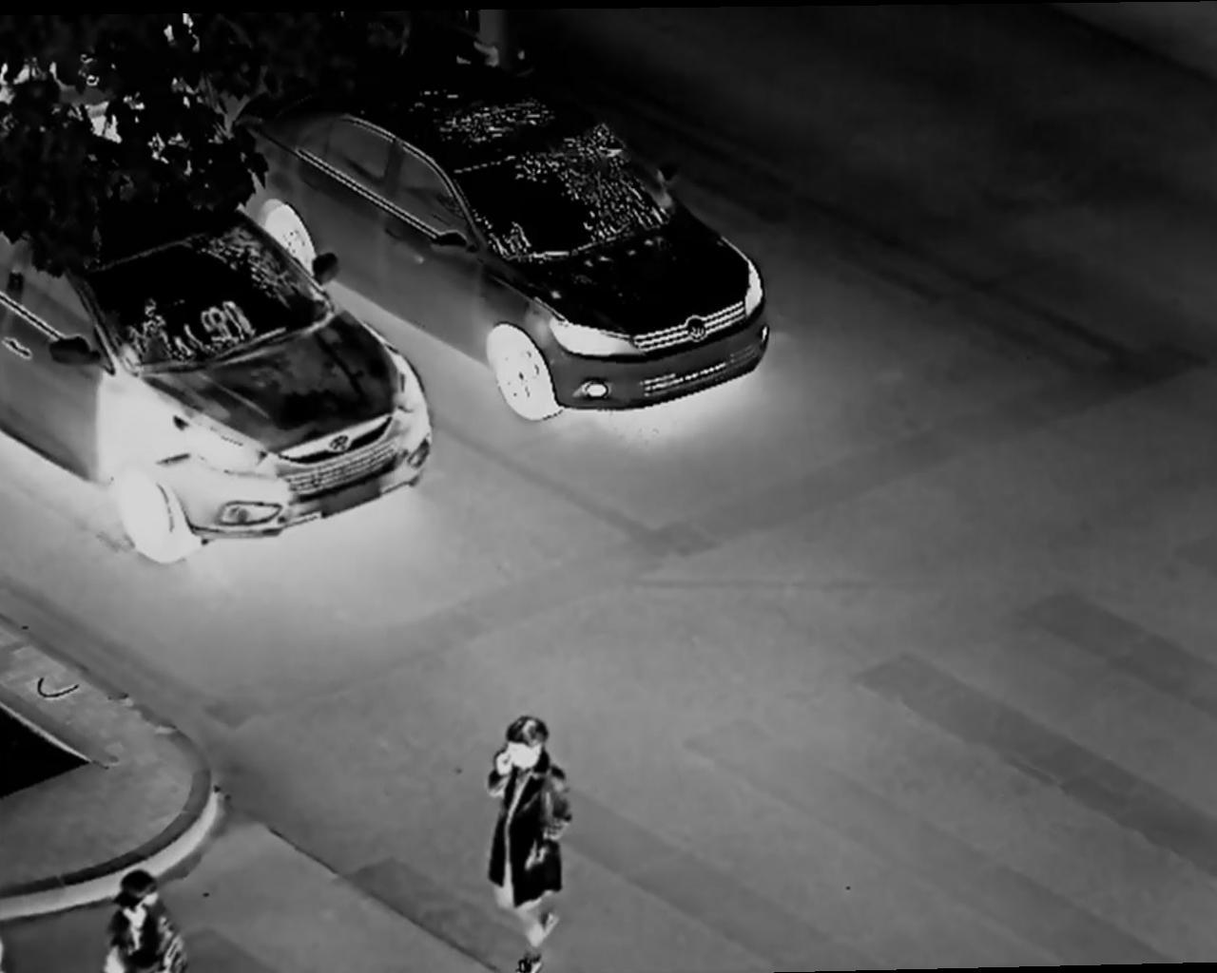person: (485, 713, 571, 973), (103, 872, 180, 973)
